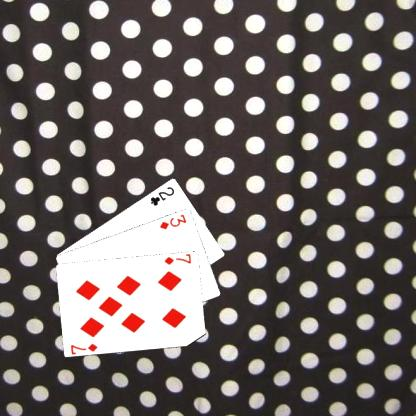2C: (147, 183, 176, 207)
3D: (157, 211, 188, 230)
7D: (161, 252, 193, 266), (68, 340, 100, 354)
